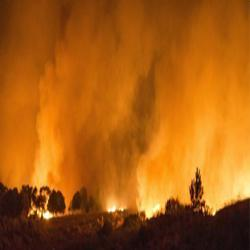fire: (222, 179, 250, 196), (32, 211, 57, 219), (142, 206, 158, 216), (107, 203, 118, 211)
